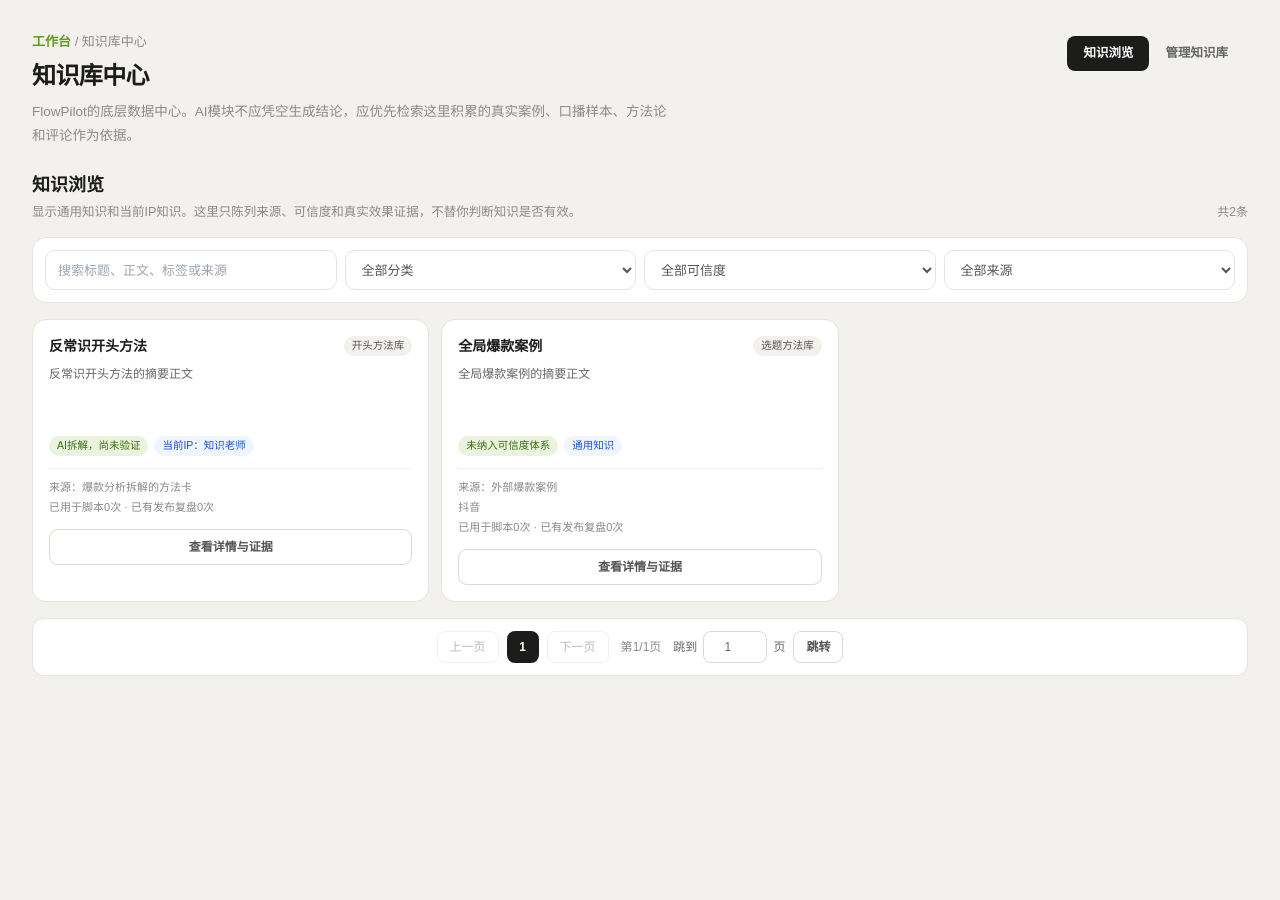
Test: 确认删除时知识库数据已损坏会明确反馈且不把损坏状态覆盖成空库
Click the button with aria-label "查看反常识开头方法详情" at (231, 547), box [49,529,412,565]
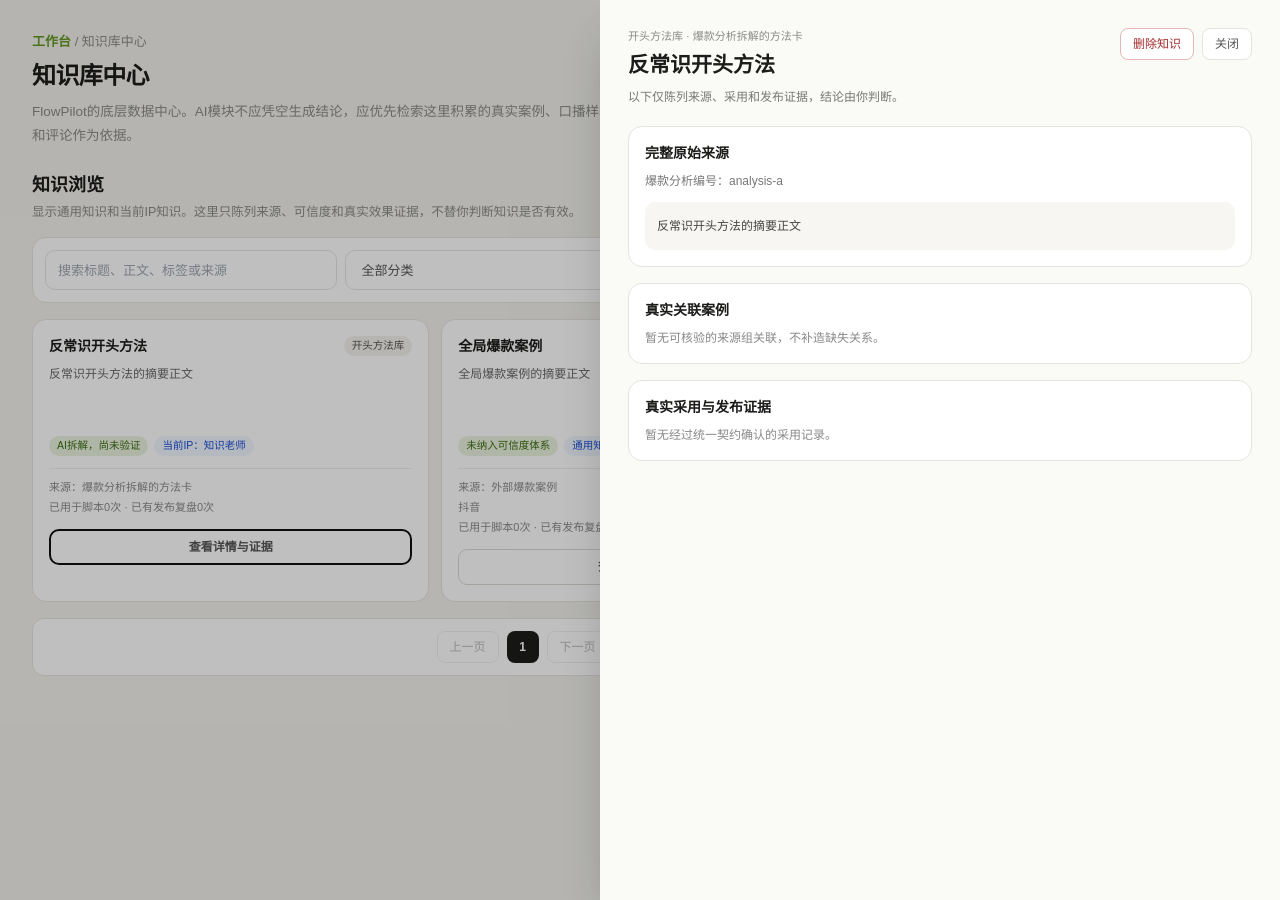
Click the button "删除知识" at (1157, 44), box [1120,28,1194,60]
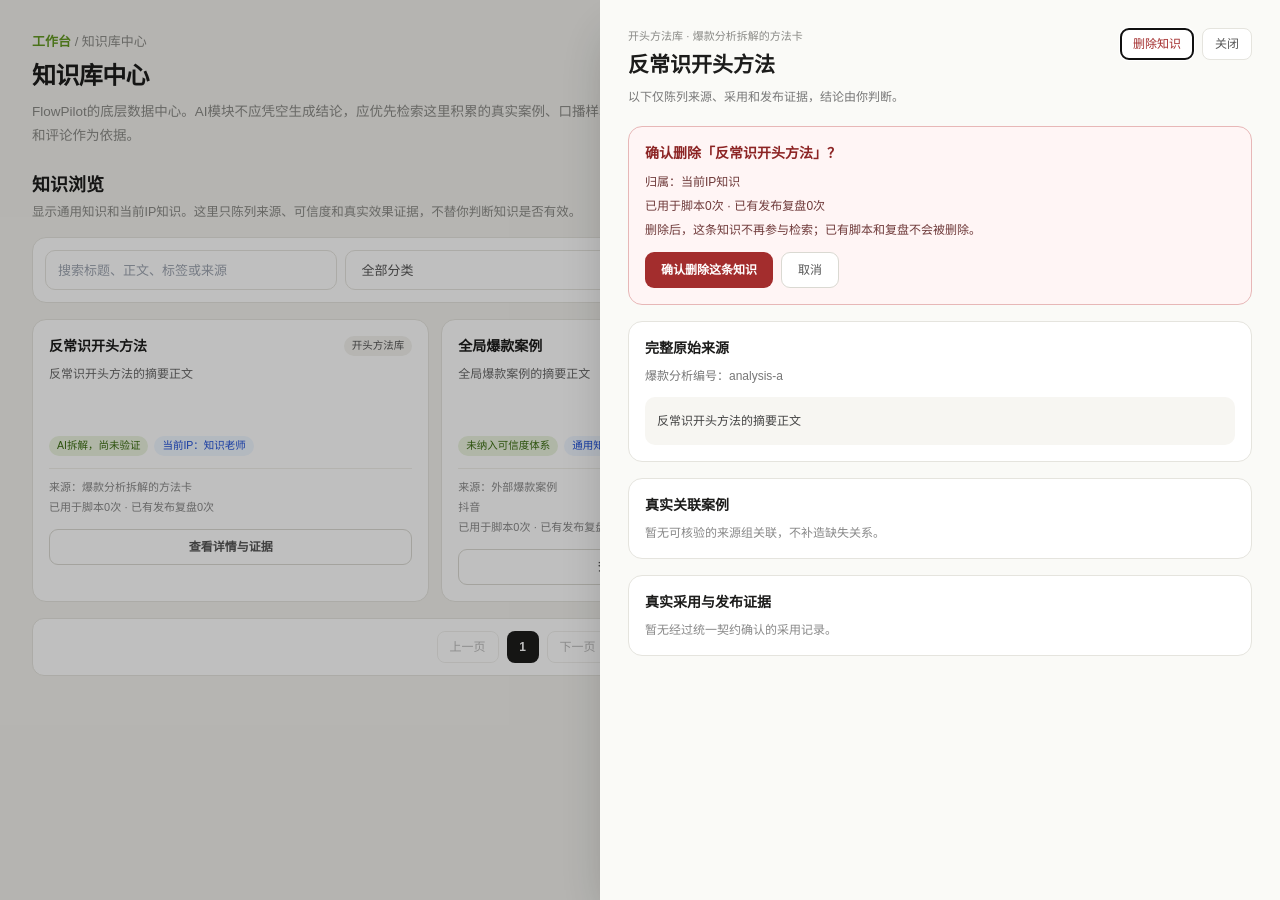
Click the button "确认删除这条知识" at (709, 270), box [645,252,773,288]
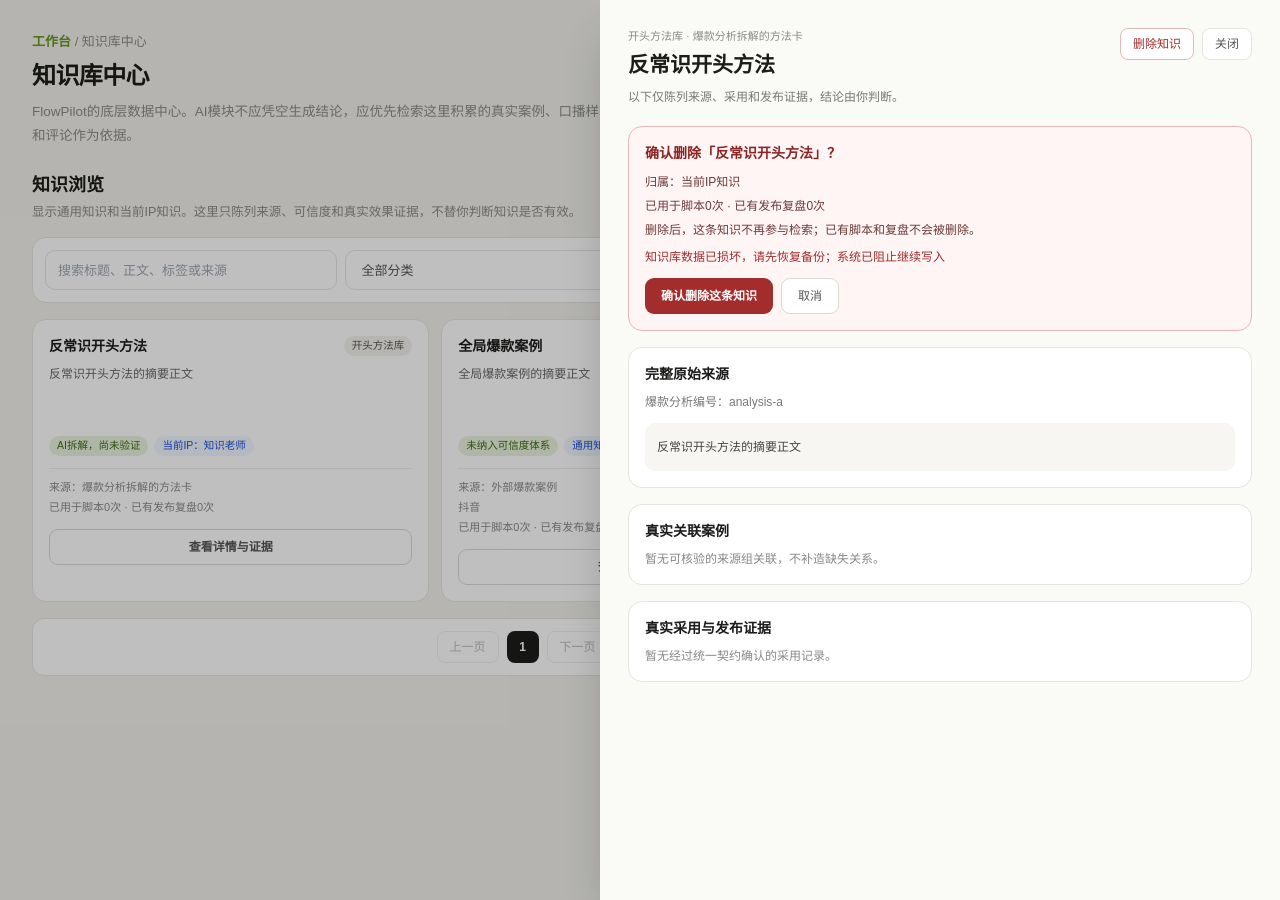
Now the dialog named "知识详情：反常识开头方法" is shown, box [600,0,1279,899]
Now the message shows "知识库数据已损坏", box [645,250,945,264]
